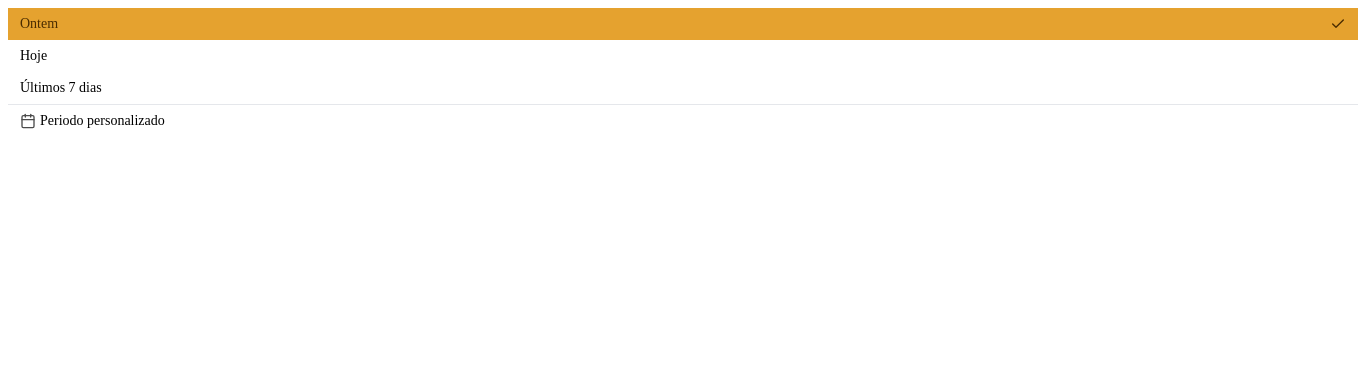
Test: DateRangeFilter › Custom Calendar Picker › RF10: renderiza calendar grid com dias do mes
Step 1. Click the radio button with class "date-range-filter__custom-trigger" → x=683, y=120, box top-left (8, 104), bottom-right (1358, 137)
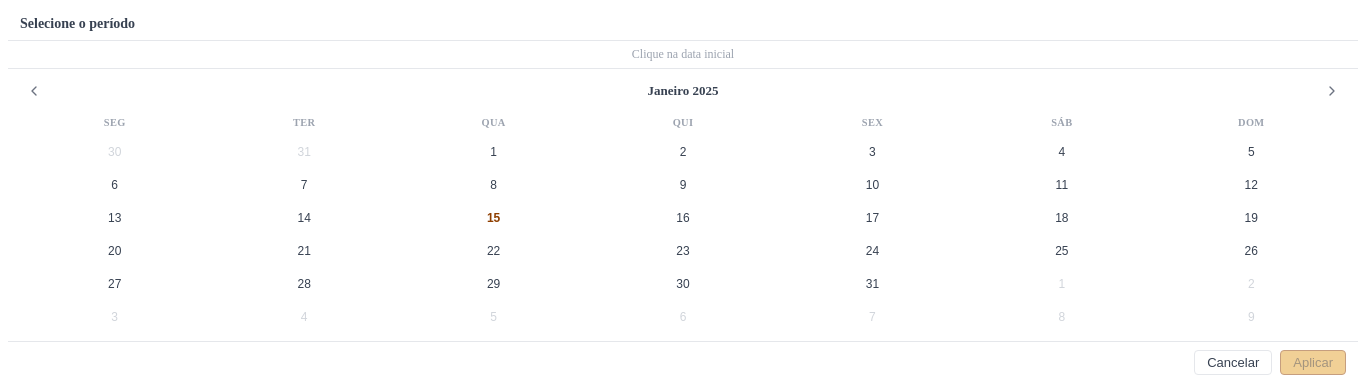
Expected: the number of elements with class "drf-cal__weekday" is 7
Expected: the number of buttons with class "drf-cal__day" is 42
